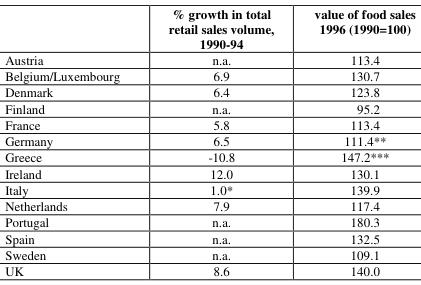table: (4, 3, 414, 278)
table column: (143, 3, 293, 278), (4, 3, 143, 278), (293, 3, 414, 278)
table column header: (4, 3, 414, 51)
table row: (4, 3, 414, 51), (4, 115, 414, 132), (4, 180, 414, 197), (4, 245, 414, 262), (4, 51, 414, 67), (4, 67, 414, 83), (4, 83, 414, 99), (4, 99, 414, 115), (4, 132, 414, 148), (4, 148, 414, 164), (4, 164, 414, 180), (4, 197, 414, 213), (4, 213, 414, 229), (4, 229, 414, 245), (4, 262, 414, 278)
